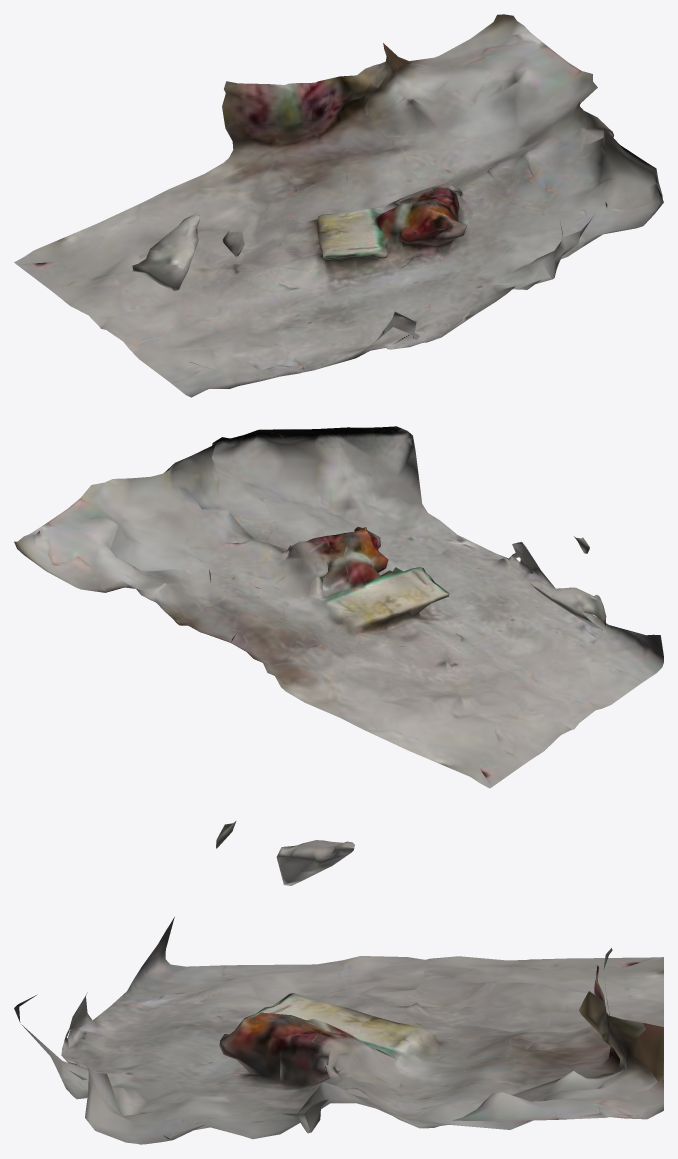
The model's file is hall.glb.
3 renders of one model, top to bottom at view 1: azimuth 30°, elevation 25°; view 2: azimuth 150°, elevation 25°; view 3: azimuth 270°, elevation 25°, orthographic. The views are drawn at different scales.
Bounding box in the file's own units: 2.16 × 0.5711 × 1.77.
Materials: 1 (1 with a texture image).
